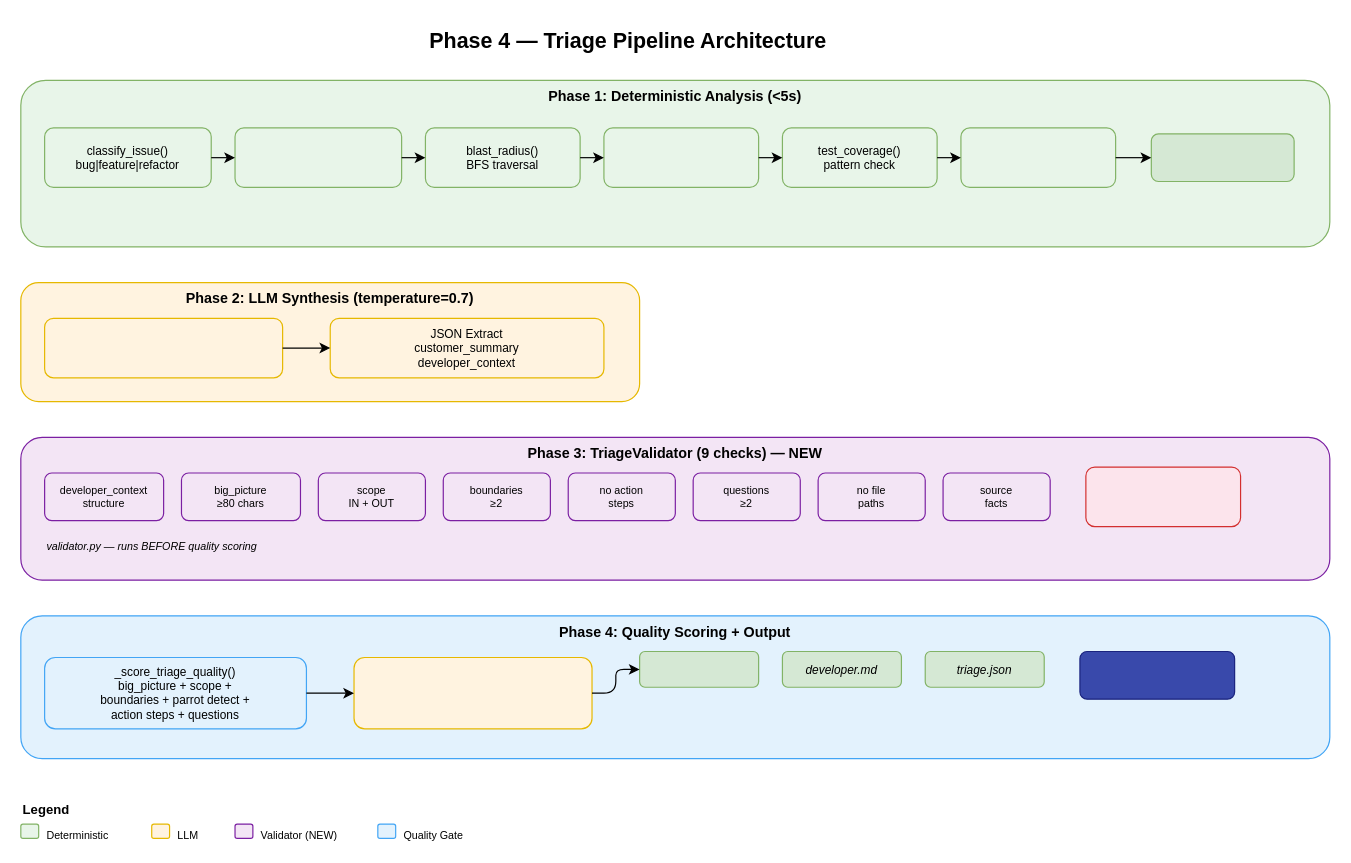
The diagram is 1351 pixels wide and 863 high, and some of its shapes have lost their labels. Here are the shapes that lost their labels. From the top down, the centre of each, then its label:
[318,157]: entry_point_finder() multi-signal match
[681,157]: find_duplicates() vector search
[1038,157]: assess_risk() security+quality
[1222,157]: findings.json
[163,347]: LLMGenerator (phase_id="triage") Single synthesis call
[1163,496]: FAIL → Retry with feedback (escalating)
[698,668]: customer.md
[1157,674]: quality_score → Orchestrator
[472,692]: score < threshold? → retry_with_feedback (attempt=1, escalating)
